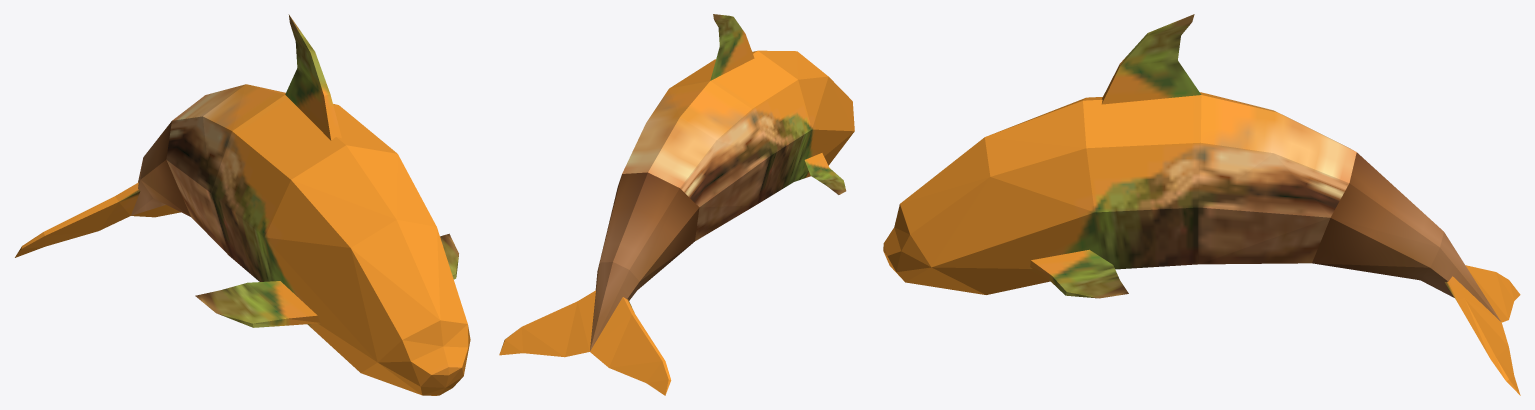
Rendered from orca.obj.
The picture shows the model from 3 angles, left to right: view 1: azimuth 30°, elevation 25°; view 2: azimuth 150°, elevation 25°; view 3: azimuth 270°, elevation 25°; orthographic projection. The views are drawn at different scales.
Parts seen in each view (by area): view 1: Object_1; view 2: Object_1; view 3: Object_1.
Boxes of the visible parts, x1,y1,x2,y2 form: Object_1: (15,14,470,395); Object_1: (499,14,854,395); Object_1: (883,14,1520,395).
Bounding box in the file's own units: 50.58 × 64.75 × 113.
